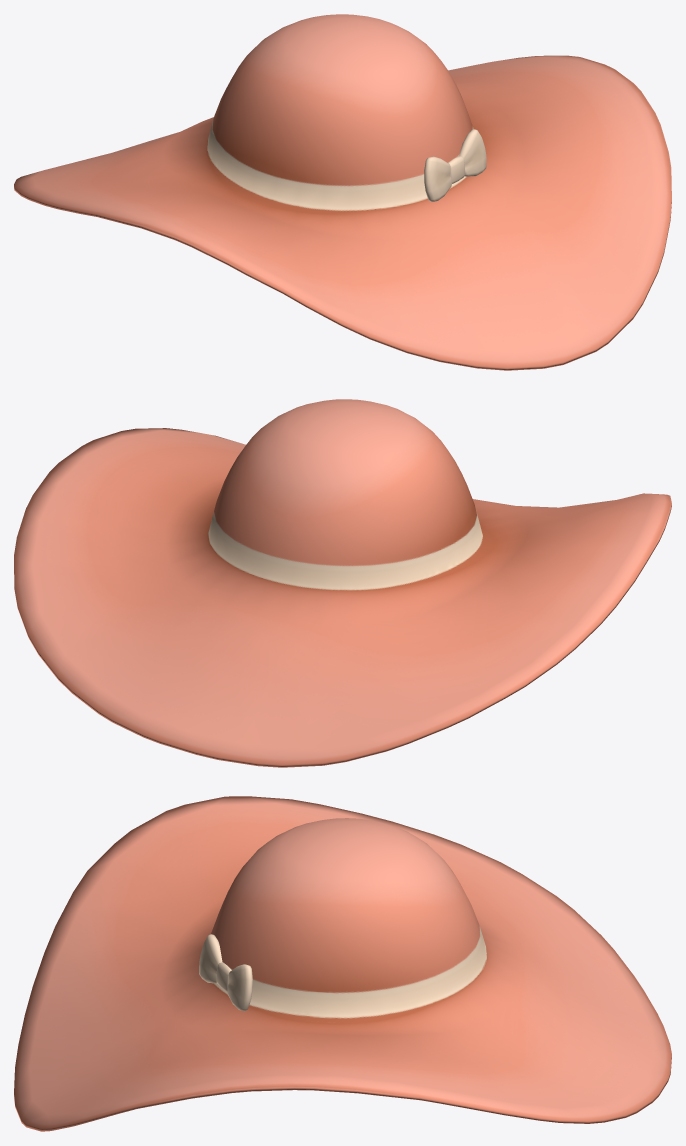
File: Female hat.fbx
The picture shows the model from 3 angles, top to bottom: view 1: azimuth 30°, elevation 25°; view 2: azimuth 150°, elevation 25°; view 3: azimuth 270°, elevation 25°; orthographic projection. The views are drawn at different scales.
Parts seen in each view (by area): view 1: Female hat; view 2: Female hat; view 3: Female hat.
Part boxes in pixels (x1,y1,x2,y2): Female hat: [14, 14, 671, 370]; Female hat: [14, 399, 671, 767]; Female hat: [14, 796, 671, 1131].
Bounding box in the file's own units: 75.54 × 30.3 × 74.89.
